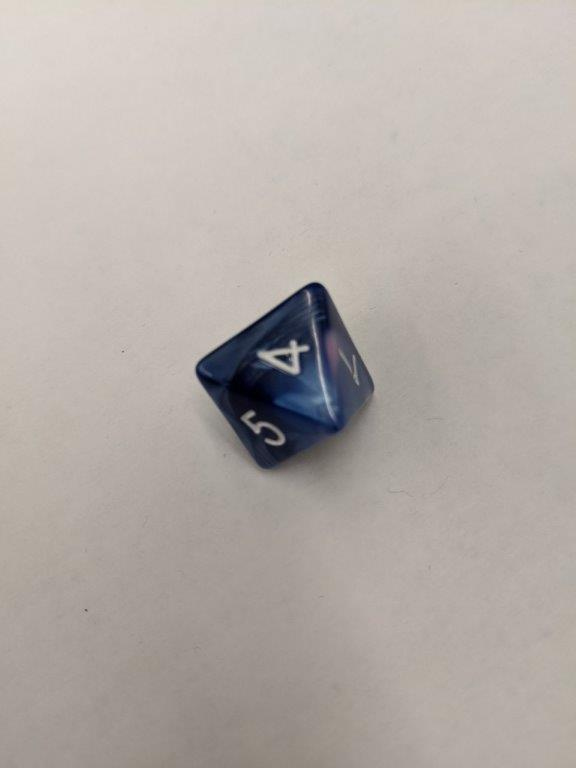d8-4: (194, 283, 375, 470)
